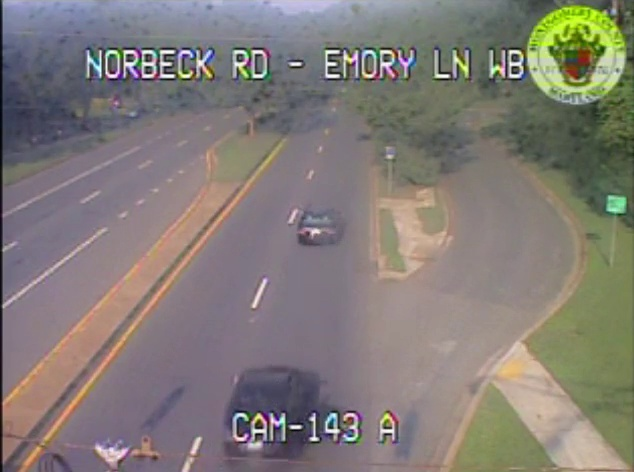car: (223, 368, 309, 455), (297, 205, 337, 244)
